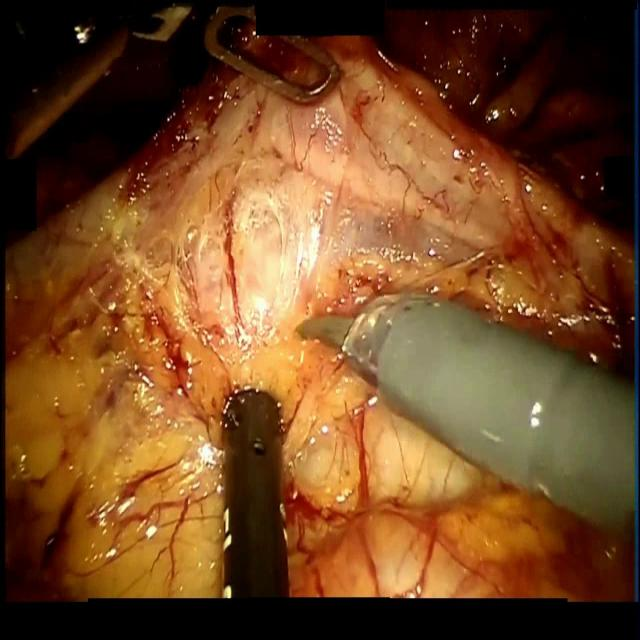surgical-area: (0, 0, 636, 604)
surgical-tool: (289, 291, 636, 545), (203, 0, 341, 106), (222, 382, 288, 595)
